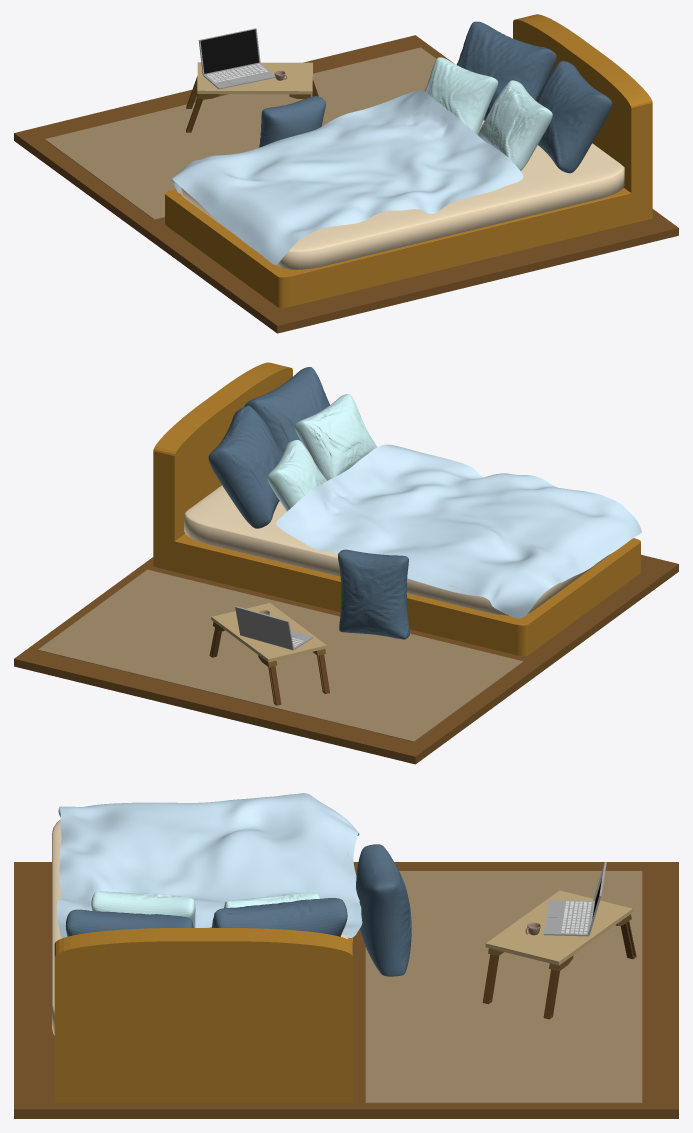
The picture shows the model from 3 angles, top to bottom: view 1: azimuth 30°, elevation 25°; view 2: azimuth 150°, elevation 25°; view 3: azimuth 270°, elevation 25°; orthographic projection. The views are drawn at different scales.
Parts seen in each view (by area): view 1: Plane.001, bed, floor1, carpet, futon, p4, p3, p2, Cube.007, p1, table, p5; view 2: carpet, Plane.001, bed, floor1, futon, p5, p3, p2, p4, table, p1, Cube.007; view 3: carpet, bed, floor1, Plane.001, table, p5, p3, p4, p2, Cube.007, futon, p1.
Part boxes in pixels (bbox=[...]): Plane.001: bbox=[171, 90, 522, 264]; bed: bbox=[165, 14, 652, 307]; floor1: bbox=[14, 35, 678, 333]; carpet: bbox=[44, 47, 436, 219]; futon: bbox=[181, 120, 624, 269]; p4: bbox=[535, 61, 612, 173]; p3: bbox=[456, 21, 556, 120]; p2: bbox=[478, 80, 552, 170]; Cube.007: bbox=[198, 28, 275, 89]; p1: bbox=[424, 57, 498, 134]; table: bbox=[186, 62, 318, 132]; p5: bbox=[259, 96, 325, 147]; carpet: bbox=[38, 569, 523, 741]; Plane.001: bbox=[276, 444, 641, 618]; bed: bbox=[153, 362, 640, 656]; floor1: bbox=[14, 554, 678, 764]; futon: bbox=[184, 485, 610, 615]; p5: bbox=[338, 549, 409, 639]; p3: bbox=[208, 405, 283, 528]; p2: bbox=[294, 394, 377, 480]; p4: bbox=[244, 367, 329, 452]; table: bbox=[209, 603, 329, 705]; p1: bbox=[267, 440, 326, 511]; Cube.007: bbox=[235, 606, 313, 650]; carpet: bbox=[365, 871, 642, 1103]; bed: bbox=[54, 928, 352, 1102]; floor1: bbox=[14, 862, 678, 1118]; Plane.001: bbox=[57, 793, 362, 938]; table: bbox=[482, 890, 636, 1019]; p5: bbox=[356, 844, 411, 976]; p3: bbox=[212, 898, 347, 936]; p4: bbox=[65, 909, 193, 936]; p2: bbox=[91, 891, 195, 927]; Cube.007: bbox=[543, 862, 606, 936]; futon: bbox=[52, 820, 348, 1035]; p1: bbox=[224, 892, 320, 908].
Size of the model in its own units: 4.6 by 1.53 by 5.23.
